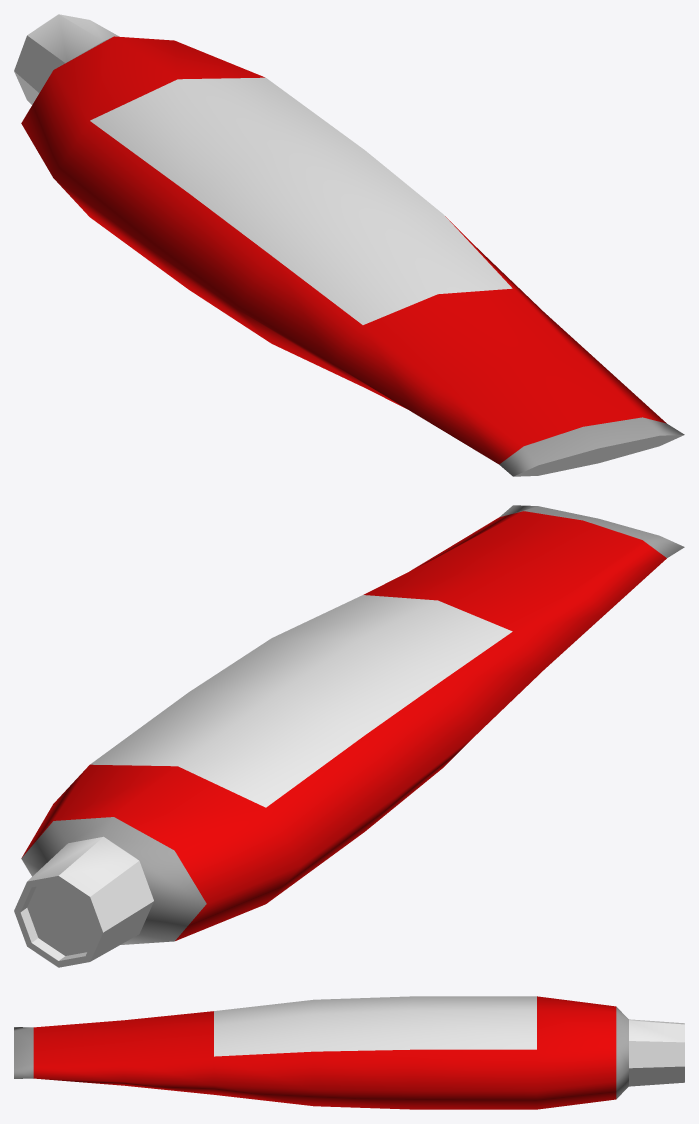
Rendered from Toothpaste.fbx.
The picture shows the model from 3 angles, top to bottom: view 1: azimuth 30°, elevation 25°; view 2: azimuth 150°, elevation 25°; view 3: azimuth 270°, elevation 25°; orthographic projection. The views are drawn at different scales.
Visible parts, largest first — view 1: Toothpaste; view 2: Toothpaste; view 3: Toothpaste.
Boxes of the visible parts, bbox=[...] form: Toothpaste: bbox=[14, 14, 684, 476]; Toothpaste: bbox=[14, 505, 684, 967]; Toothpaste: bbox=[14, 996, 684, 1109].
Size of the model in its own units: 5.29 by 2.77 by 19.88.
